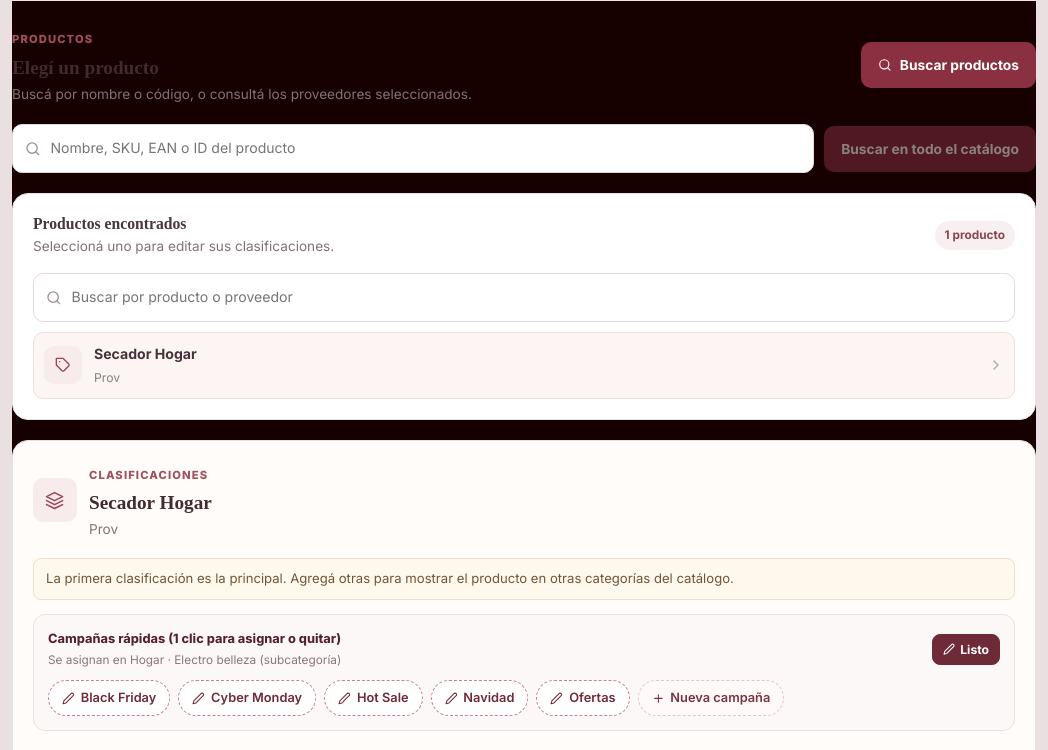
Test: permite editar nombre y configuración de pills predeterminadas y restaurarlas
Earlier steps of the test are not shown.
Later steps or results of the test are not shown.
Click the button "Ofertas": (583, 698) [536,680,630,716]
(page scrolled)
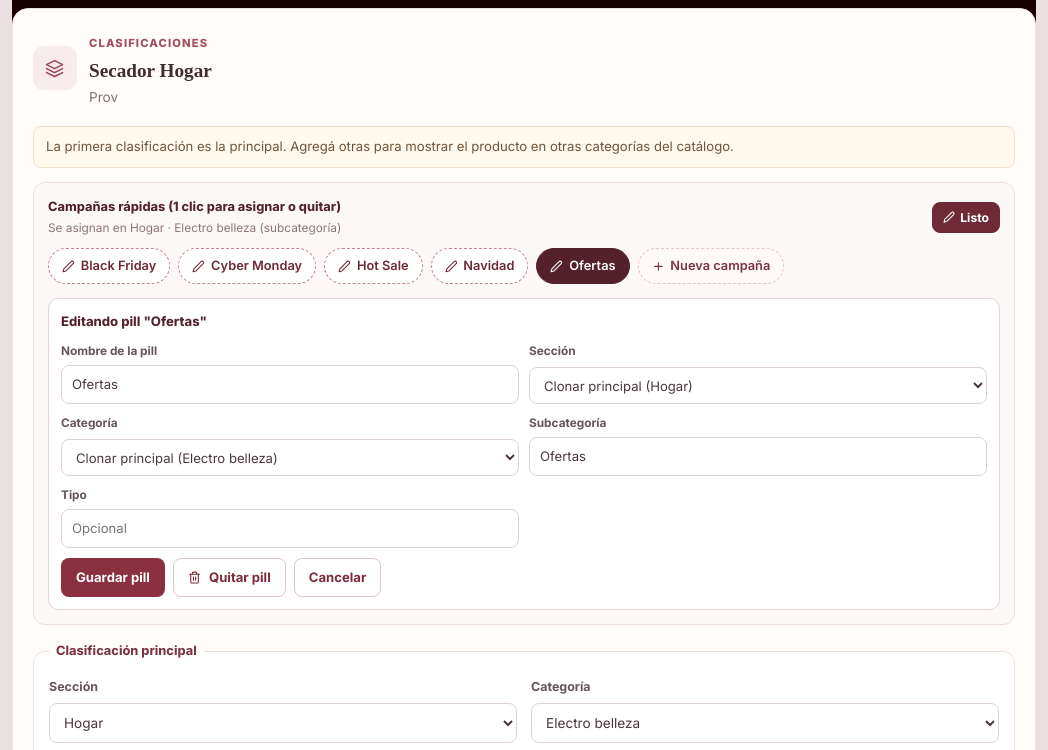
Replace the text in the field labelled "Nombre de la pill" with "Liquidación": (290, 385) [61,365,519,404]
Select "Perfumería" in the dropdown named "Sección de la pill": (758, 386) [529,367,987,404]
Select "Fragancias" in the dropdown named "Categoría de la pill": (290, 458) [61,439,519,476]
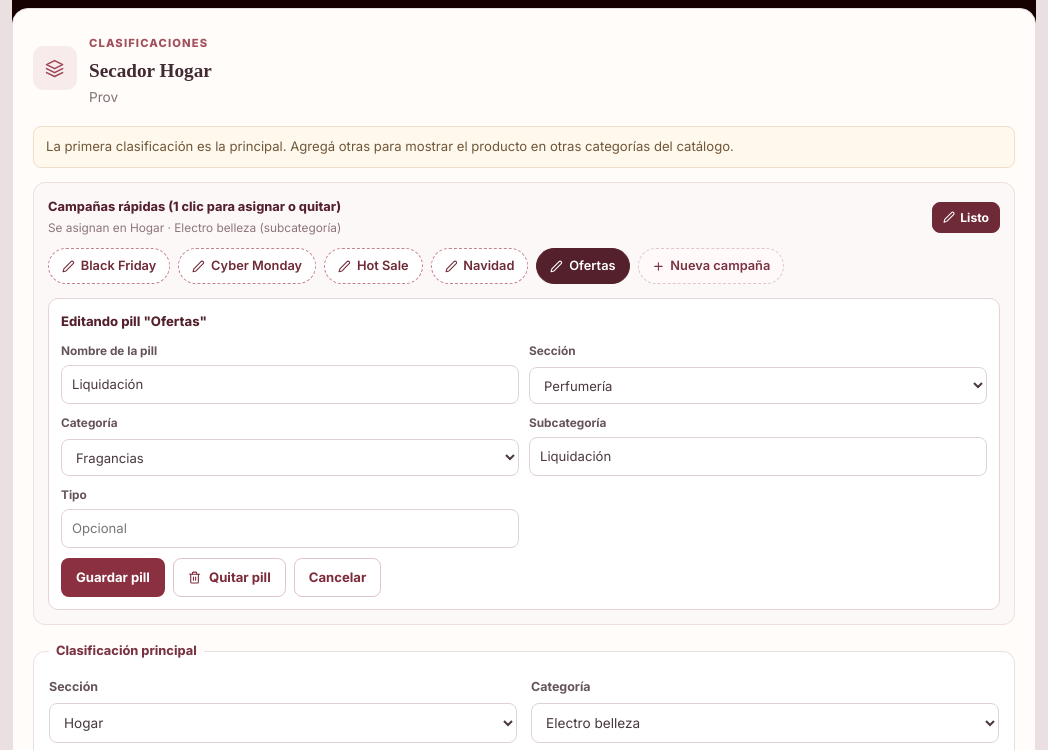
Replace the text in the field named "Subcategoría de la pill" with "Outlet": (758, 457) [529,437,987,476]
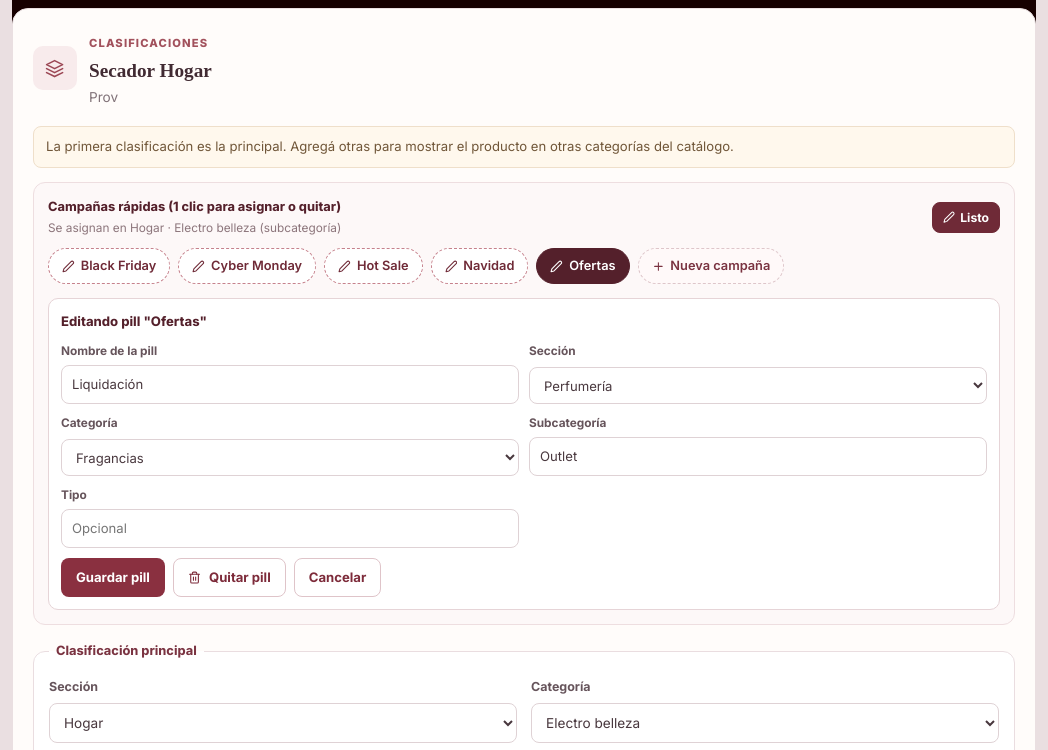
In the field named "Tipo de la pill": (290, 529) [61,509,519,548], type "Tester"
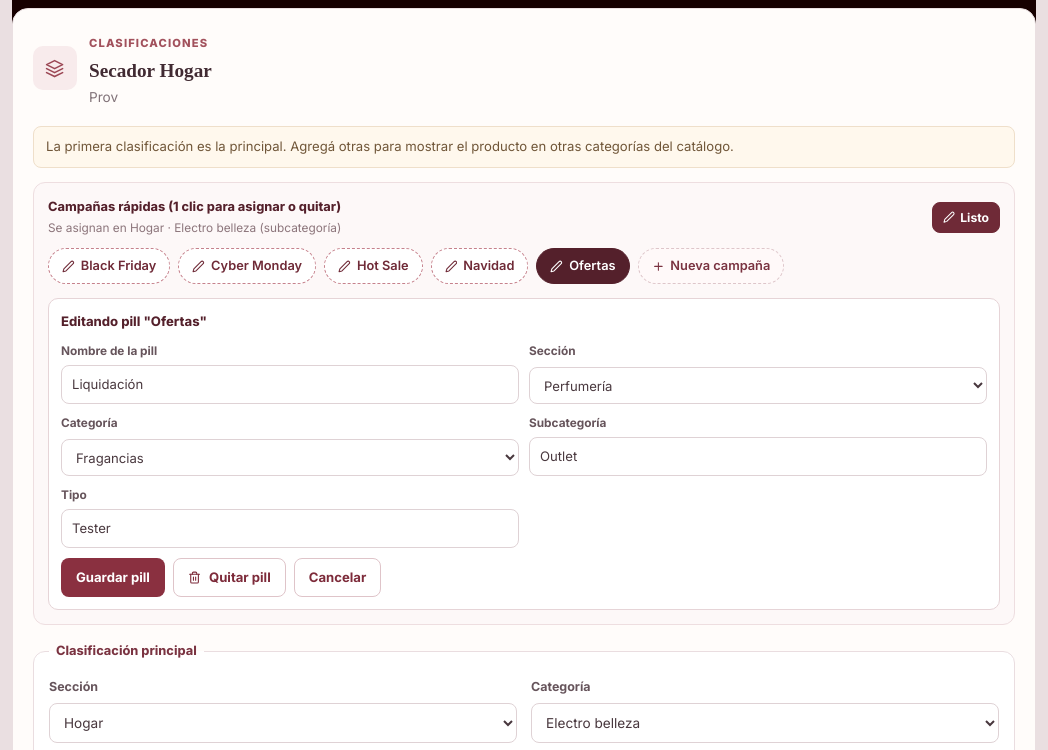
Click the button "Guardar pill": (113, 578) [61,558,165,597]
(page scrolled)
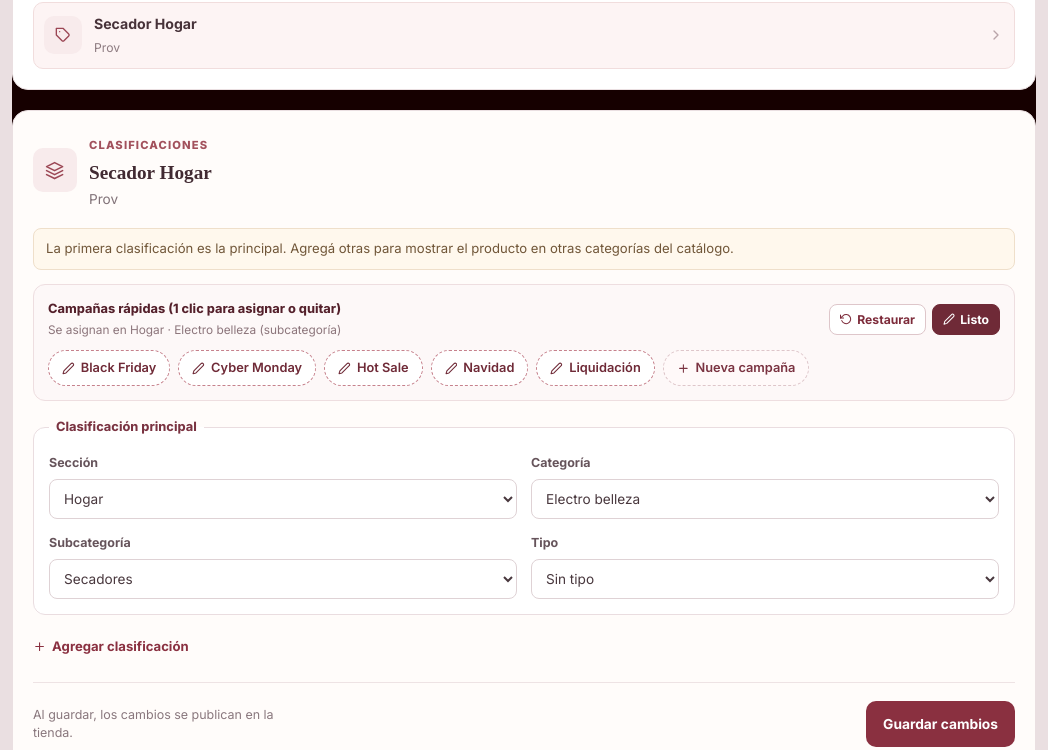
Click the button "Listo": (966, 319) [932,304,1000,335]
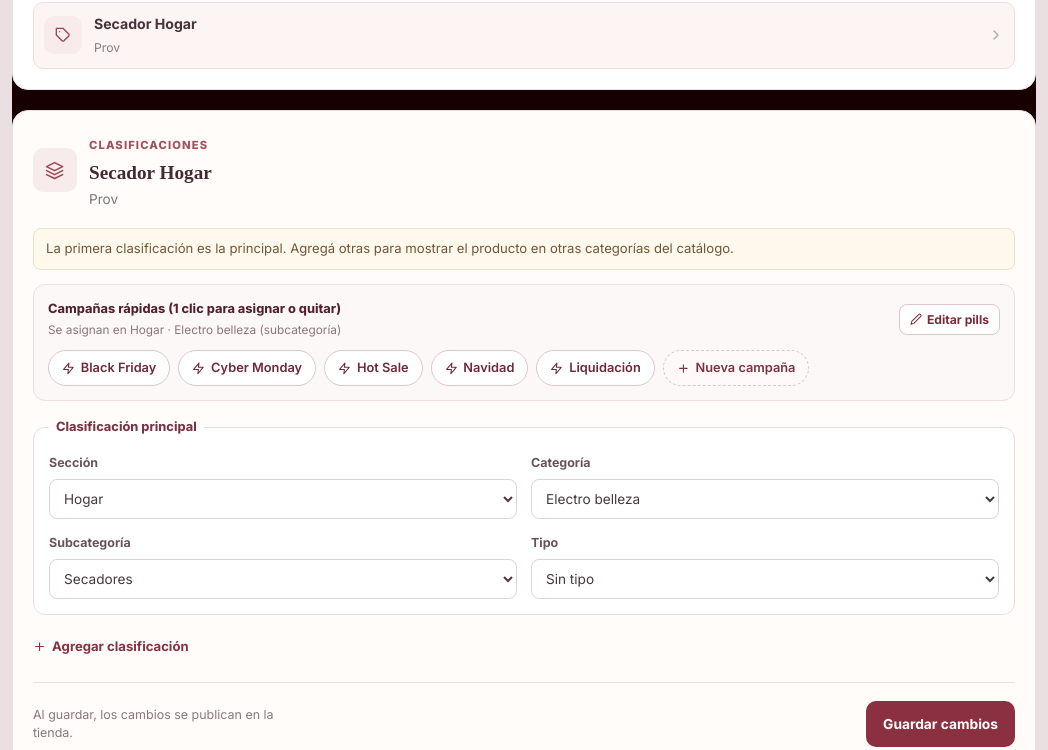
Expected: the button "Ofertas" is not shown
Expected: the button "Liquidación" is shown, [536,350,655,386]
